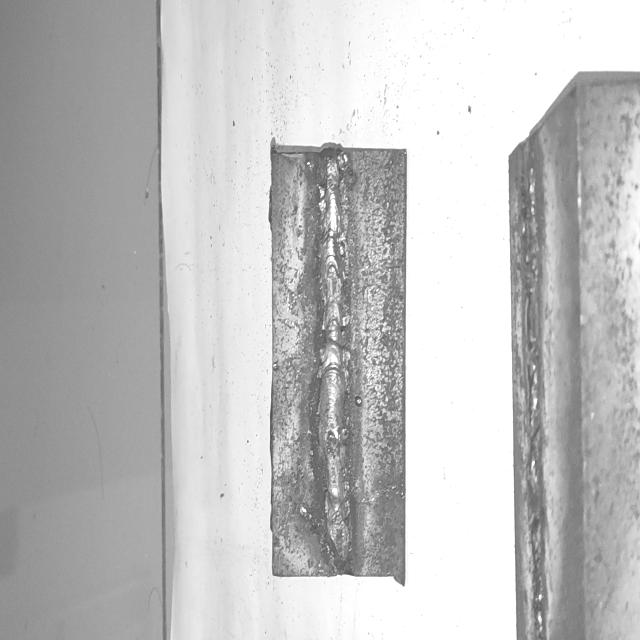Good Weld: (316, 153, 354, 569), (524, 138, 544, 640)
